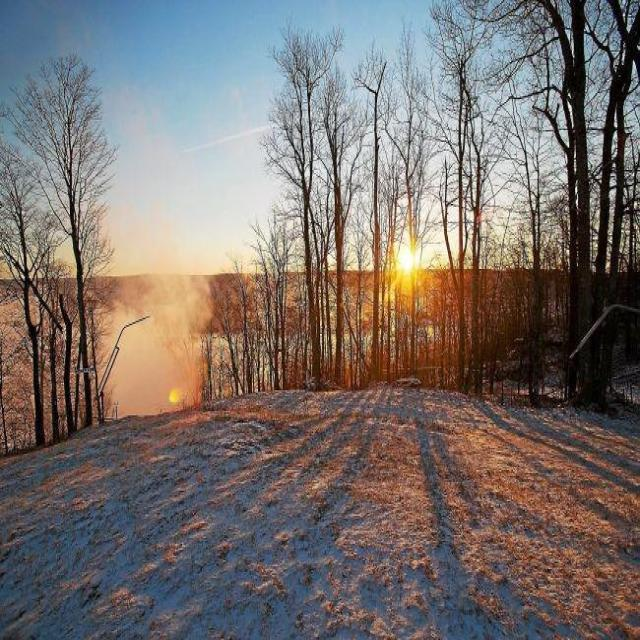other: (393, 238, 431, 292), (165, 385, 182, 410)
